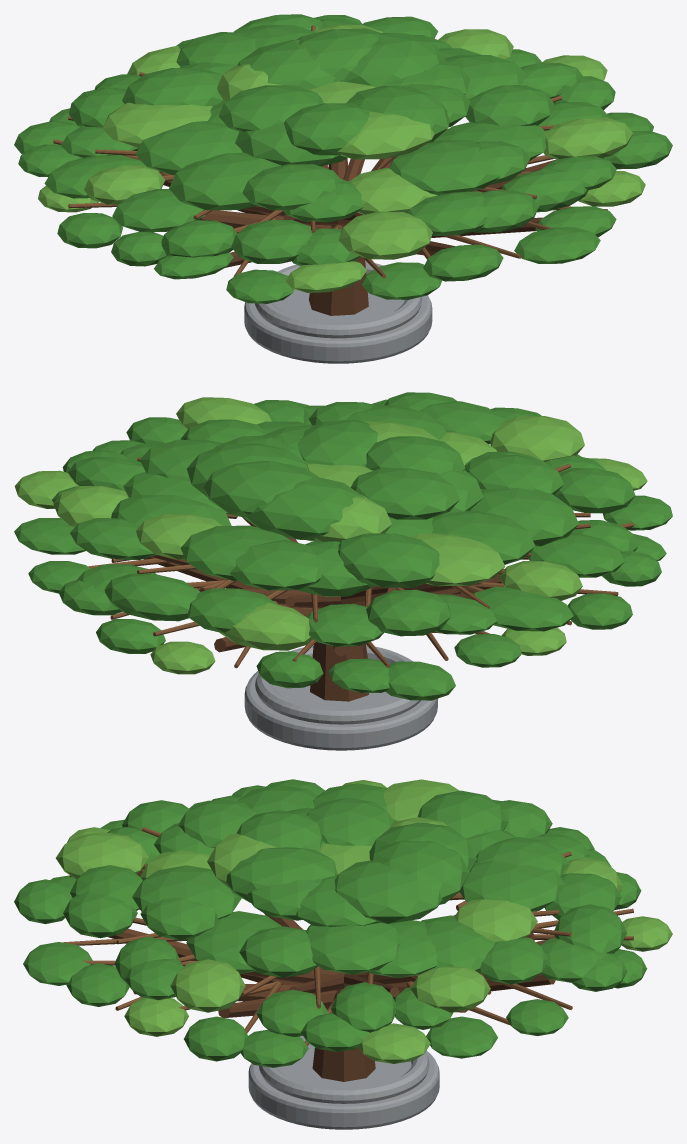
Rendered from tree_gattu.glb.
3 renders of one model, top to bottom at view 1: azimuth 30°, elevation 25°; view 2: azimuth 150°, elevation 25°; view 3: azimuth 270°, elevation 25°, orthographic. The views are drawn at different scales.
Parts seen in each view (by area): view 1: Gattu_Seat_Platform, Round canopy leaf.027, Round canopy leaf.023, Round canopy leaf.022, Round canopy leaf.048, Round canopy leaf.002, Round canopy leaf.024, Round canopy leaf.009, Round canopy leaf.007, Round canopy leaf.020, Gattu_Rounded_Rim, Round canopy leaf.010 (+55 smaller); view 2: Gattu_Seat_Platform, Round canopy leaf.020, Round canopy leaf.004, Round canopy leaf.007, Round canopy leaf.003, Round canopy leaf.018, Round canopy leaf.023, Round canopy leaf.036, Gattu_Rounded_Rim, Round canopy leaf.048, Round canopy leaf.017, Round canopy leaf.040 (+59 smaller); view 3: Gattu_Seat_Platform, Round canopy leaf.002, Round canopy leaf.013, Round canopy leaf.017, Round canopy leaf.011, Round canopy leaf.003, Round canopy leaf.027, Gattu_Rounded_Rim, Round canopy leaf.007, Round canopy leaf.030, Round canopy leaf.053, Round canopy leaf.048 (+56 smaller).
Boxes of the visible parts, bbox=[...] form: Gattu_Seat_Platform: bbox=[244, 289, 432, 363]; Round canopy leaf.027: bbox=[389, 140, 500, 195]; Round canopy leaf.023: bbox=[169, 152, 281, 210]; Round canopy leaf.022: bbox=[135, 121, 242, 175]; Round canopy leaf.048: bbox=[338, 211, 432, 259]; Round canopy leaf.002: bbox=[343, 33, 445, 87]; Round canopy leaf.024: bbox=[242, 164, 341, 210]; Round canopy leaf.009: bbox=[284, 103, 369, 155]; Round canopy leaf.007: bbox=[218, 85, 323, 131]; Round canopy leaf.020: bbox=[122, 67, 223, 106]; Gattu_Rounded_Rim: bbox=[255, 261, 422, 338]; Round canopy leaf.010: bbox=[337, 111, 434, 159]; Gattu_Seat_Platform: bbox=[244, 671, 437, 750]; Round canopy leaf.020: bbox=[338, 533, 439, 587]; Round canopy leaf.004: bbox=[243, 476, 364, 539]; Round canopy leaf.007: bbox=[350, 468, 459, 519]; Round canopy leaf.003: bbox=[203, 461, 319, 517]; Round canopy leaf.018: bbox=[229, 540, 322, 590]; Round canopy leaf.023: bbox=[470, 488, 578, 546]; Round canopy leaf.036: bbox=[104, 573, 199, 621]; Gattu_Rounded_Rim: bbox=[255, 645, 420, 724]; Round canopy leaf.048: bbox=[489, 416, 584, 461]; Round canopy leaf.017: bbox=[180, 525, 291, 580]; Round canopy leaf.040: bbox=[366, 589, 450, 636]; Gattu_Seat_Platform: bbox=[248, 1044, 439, 1129]; Round canopy leaf.002: bbox=[334, 860, 442, 923]; Round canopy leaf.013: bbox=[306, 923, 400, 974]; Round canopy leaf.017: bbox=[460, 861, 565, 911]; Round canopy leaf.011: bbox=[226, 847, 337, 902]; Round canopy leaf.003: bbox=[370, 840, 469, 904]; Round canopy leaf.027: bbox=[132, 865, 241, 919]; Gattu_Rounded_Rim: bbox=[259, 1036, 429, 1103]; Round canopy leaf.007: bbox=[307, 797, 394, 845]; Round canopy leaf.030: bbox=[239, 926, 318, 977]; Round canopy leaf.053: bbox=[170, 959, 245, 1012]; Round canopy leaf.048: bbox=[56, 832, 148, 879].
Size of the model in its own units: 16.32 by 7.07 by 16.2.
